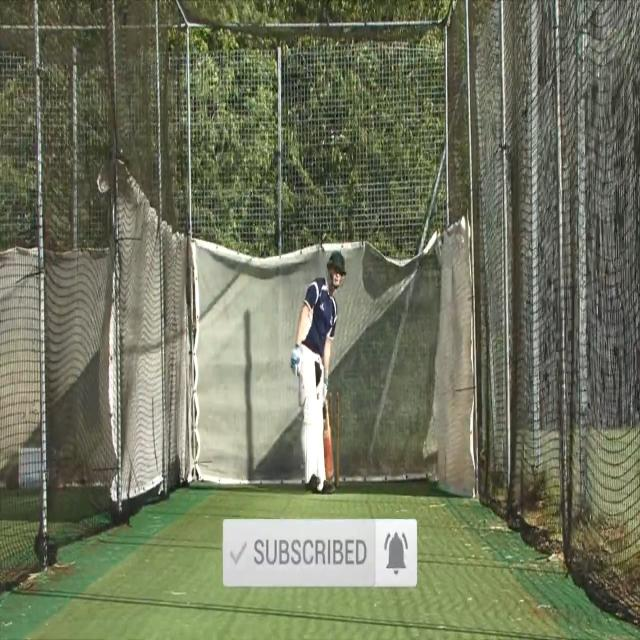batsman: (289, 248, 348, 497)
